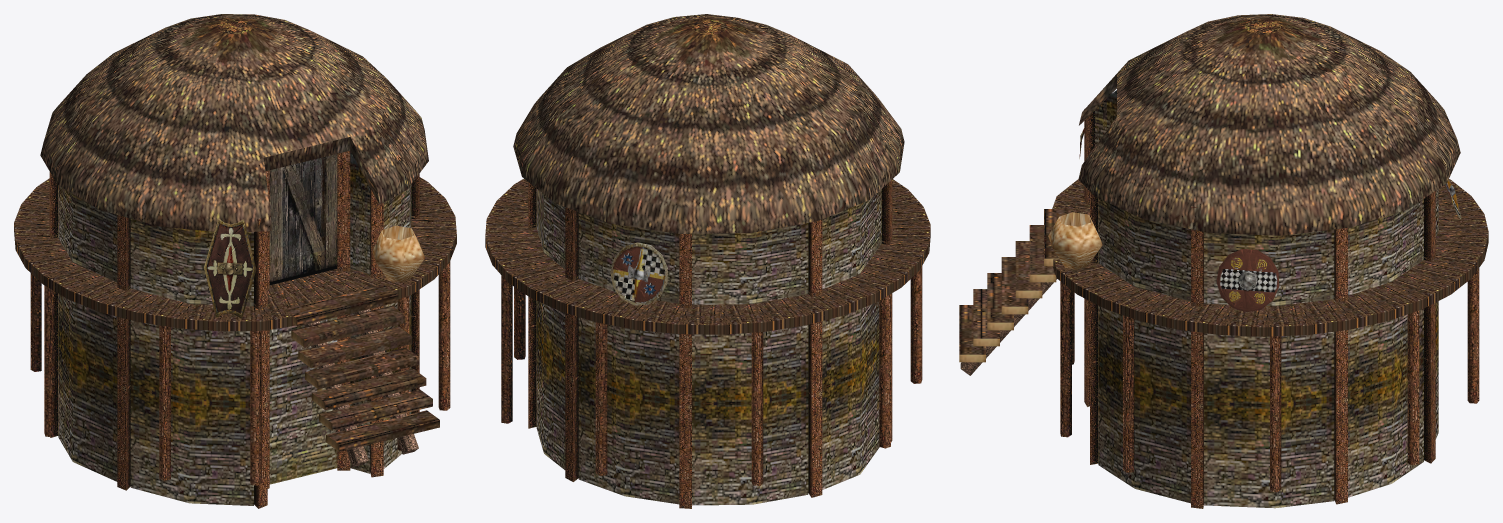
Rendered from casa_c.glb.
3 renders of one model, left to right at view 1: azimuth 30°, elevation 25°; view 2: azimuth 150°, elevation 25°; view 3: azimuth 270°, elevation 25°, orthographic.
Parts seen in each view (by area): view 1: Casa, Puerta, Detalles; view 2: Casa, Detalles; view 3: Casa, Detalles, Puerta.
Part boxes in pixels (bbox=[...]): Casa: bbox=[14, 14, 456, 508]; Puerta: bbox=[269, 154, 424, 466]; Detalles: bbox=[204, 218, 256, 318]; Casa: bbox=[485, 14, 930, 508]; Detalles: bbox=[610, 242, 667, 305]; Casa: bbox=[959, 14, 1488, 508]; Detalles: bbox=[1079, 128, 1461, 312]; Puerta: bbox=[960, 212, 1102, 375].
Size of the model in its own units: 5.02 by 5.01 by 5.92.
3 materials, 3 textured.
